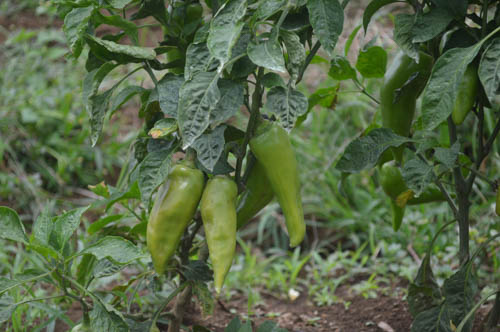ChiliPepper: (253, 123, 308, 245), (146, 167, 204, 274), (384, 50, 428, 161), (203, 175, 237, 291), (237, 160, 269, 234), (452, 65, 480, 127), (386, 166, 408, 229)
